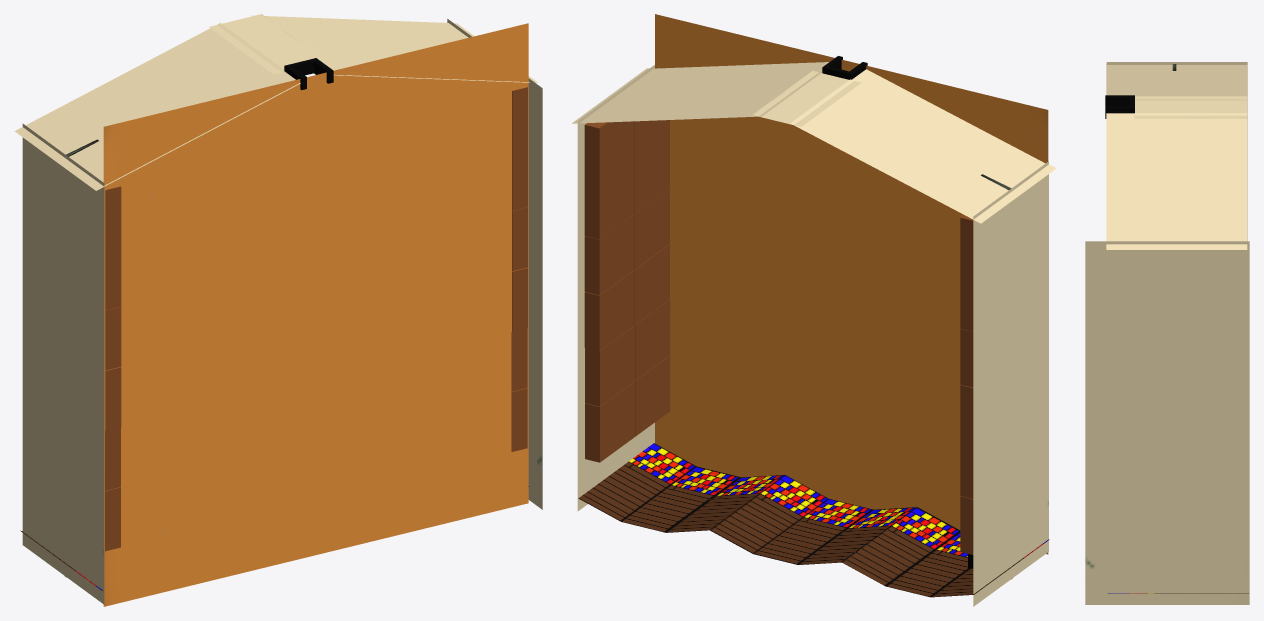
The model's file is stagewTexture.fbx.
3 renders of one model, left to right at view 1: azimuth 30°, elevation 25°; view 2: azimuth 150°, elevation 25°; view 3: azimuth 270°, elevation 25°, orthographic. The views are drawn at different scales.
Parts seen in each view (by area): view 1: Stage; view 2: Stage; view 3: Stage.
Part boxes in pixels (x1,y1,x2,y2): Stage: (14, 14, 542, 606); Stage: (572, 14, 1056, 606); Stage: (1085, 62, 1249, 604).
Size of the model in its own units: 125 by 130 by 46.67.
Materials: 1 (1 with a texture image).
